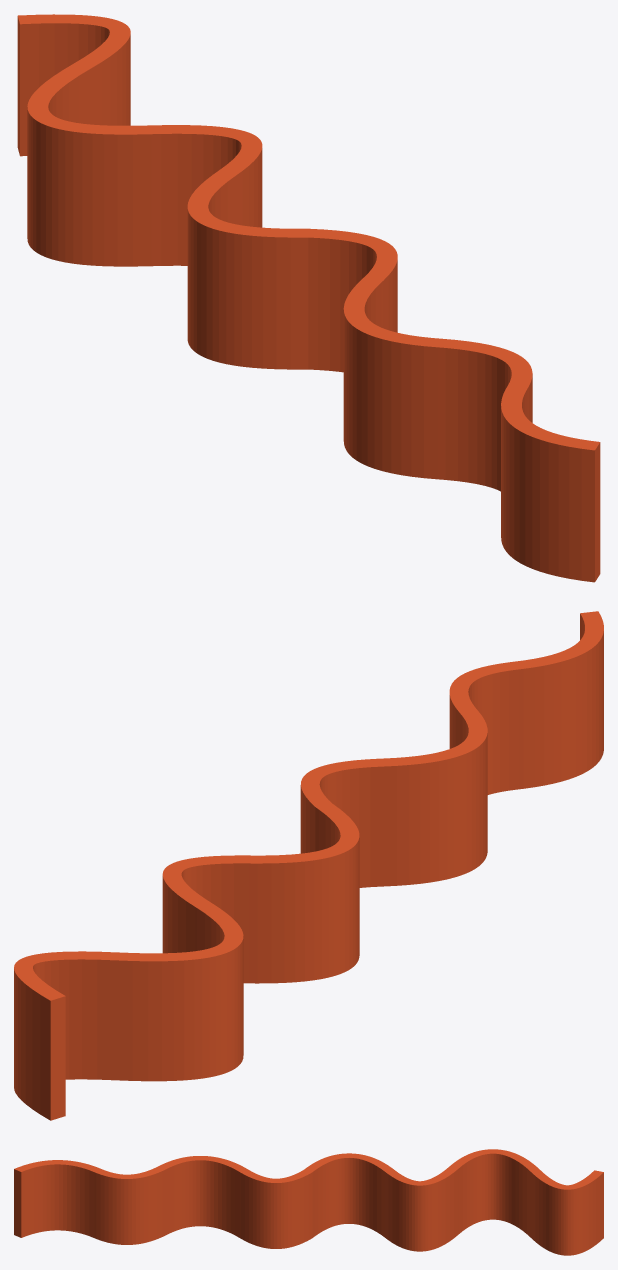
Rendered from curvature.dae.
The picture shows the model from 3 angles, top to bottom: view 1: azimuth 30°, elevation 25°; view 2: azimuth 150°, elevation 25°; view 3: azimuth 270°, elevation 25°; orthographic projection. The views are drawn at different scales.
Visible parts, largest first — view 1: SunChip; view 2: SunChip; view 3: SunChip.
Part boxes in pixels (x1,y1,x2,y2): SunChip: [17, 14, 600, 582]; SunChip: [14, 611, 603, 1120]; SunChip: [14, 1149, 603, 1255].
Size of the model in its own units: 91.93 by 567 by 70.
